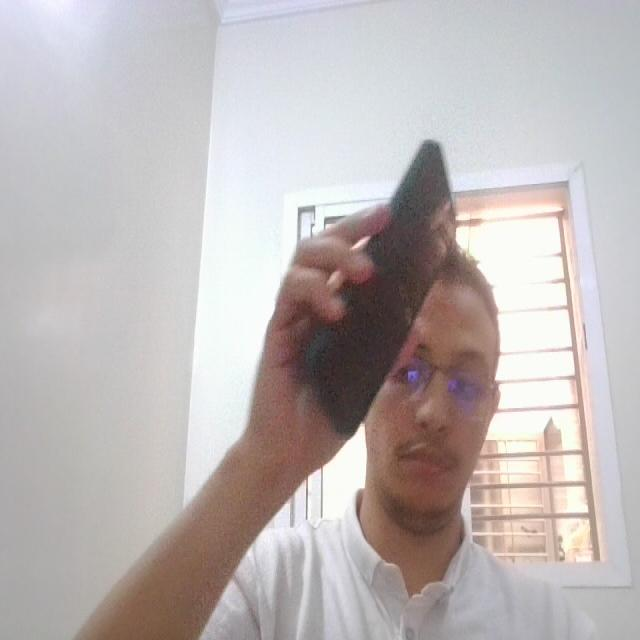phone: (294, 128, 469, 450)
